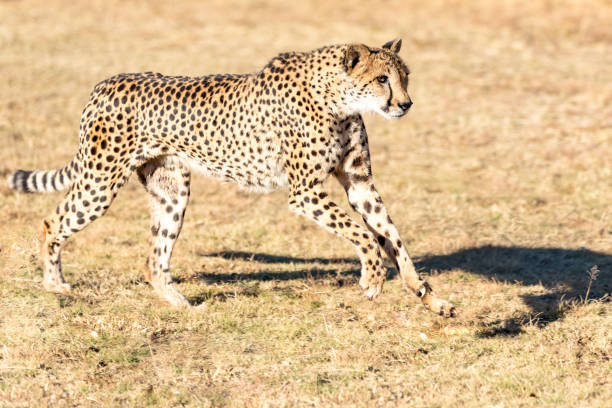cheetah: (324, 30, 426, 127)
